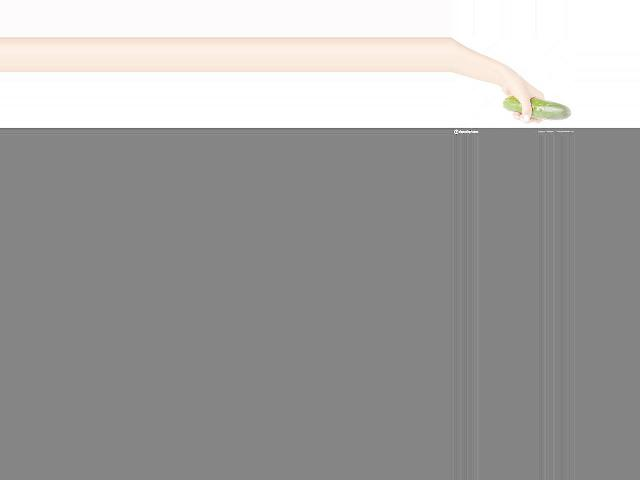cucumber: (504, 96, 571, 120)
